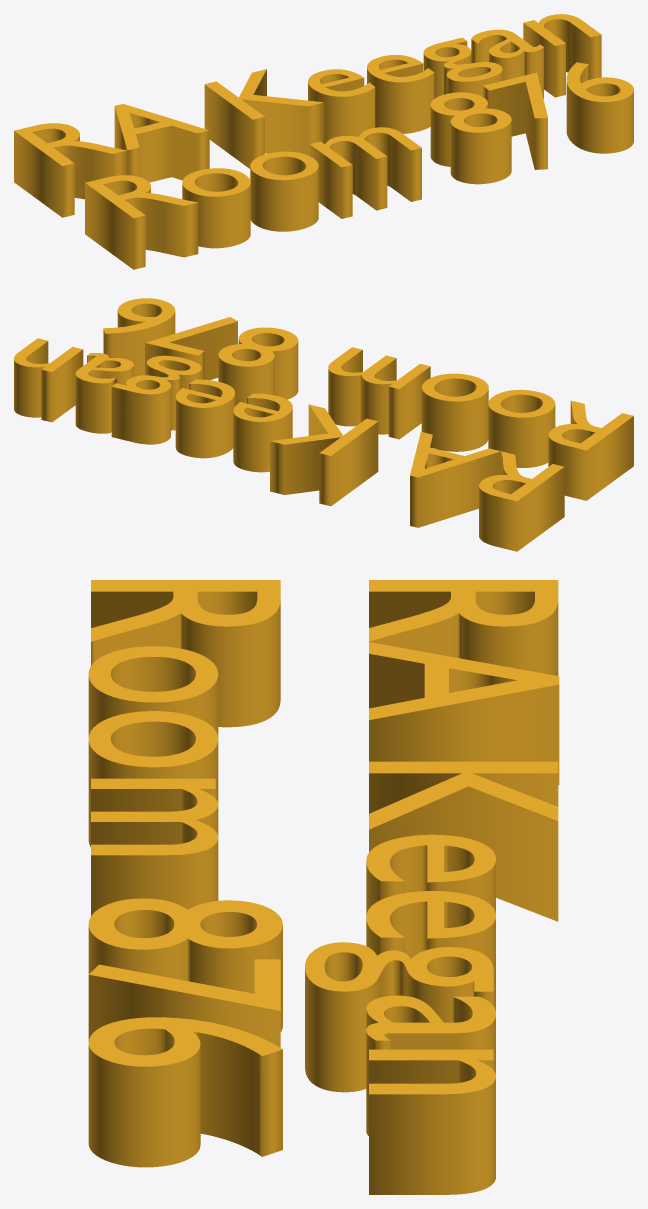
The model's file is ra-keegan-876.gltf.
3 renders of one model, top to bottom at view 1: azimuth 30°, elevation 25°; view 2: azimuth 150°, elevation 25°; view 3: azimuth 270°, elevation 25°, orthographic. The views are drawn at different scales.
Parts seen in each view (by area): view 1: Text; view 2: Text; view 3: Text.
Boxes of the visible parts, left/top/right/bottom form: Text: left=14, top=14, right=633, bottom=269; Text: left=14, top=298, right=633, bottom=551; Text: left=88, top=580, right=559, bottom=1194.
Bounding box in the file's own units: 4.38 × 0.4 × 1.69.
